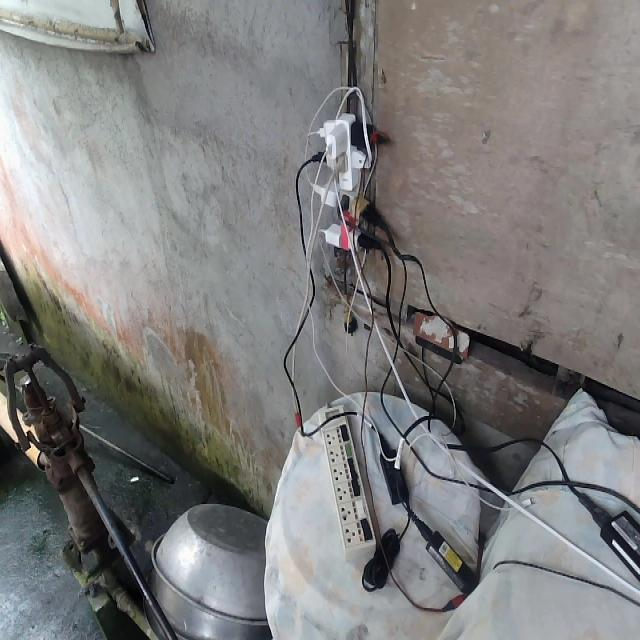-: (309, 111, 378, 253)
